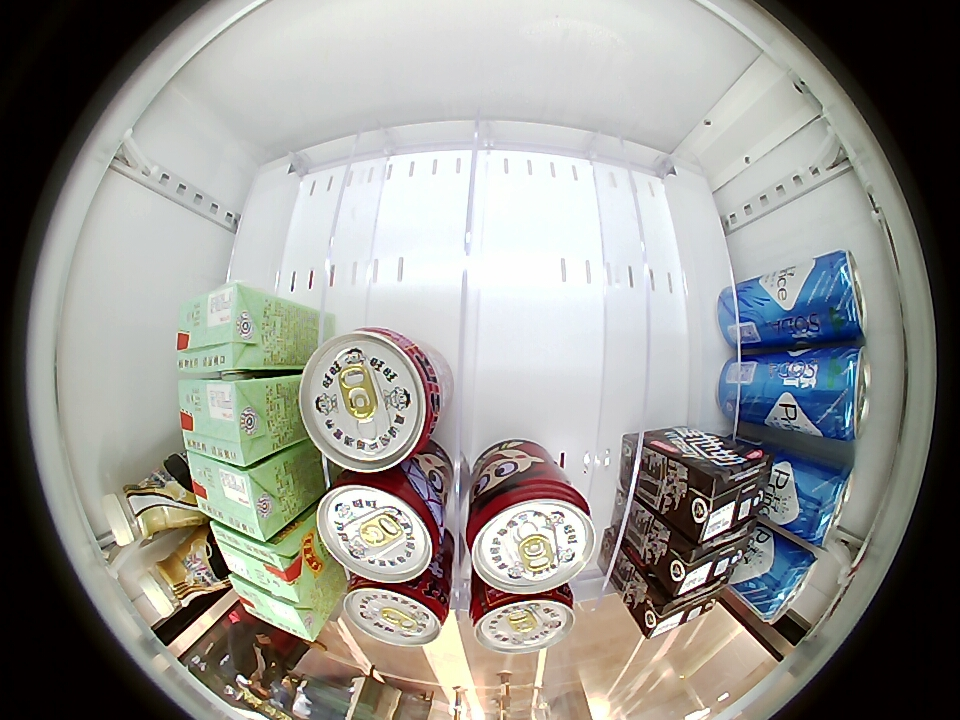kafei: (101, 468, 197, 546), (137, 534, 223, 617)
qingdaowangzi-2: (744, 541, 820, 624), (807, 344, 872, 441), (801, 249, 867, 341), (789, 458, 855, 545)
wanglaoji: (177, 376, 275, 468), (187, 453, 288, 542), (177, 283, 271, 378), (210, 523, 317, 602), (229, 575, 326, 643)
wangzainiunai: (299, 327, 443, 473), (465, 467, 596, 593), (316, 466, 445, 584), (341, 569, 451, 661), (471, 580, 575, 656)
weitanai2: (675, 446, 774, 544), (660, 519, 762, 597), (636, 575, 732, 638)
